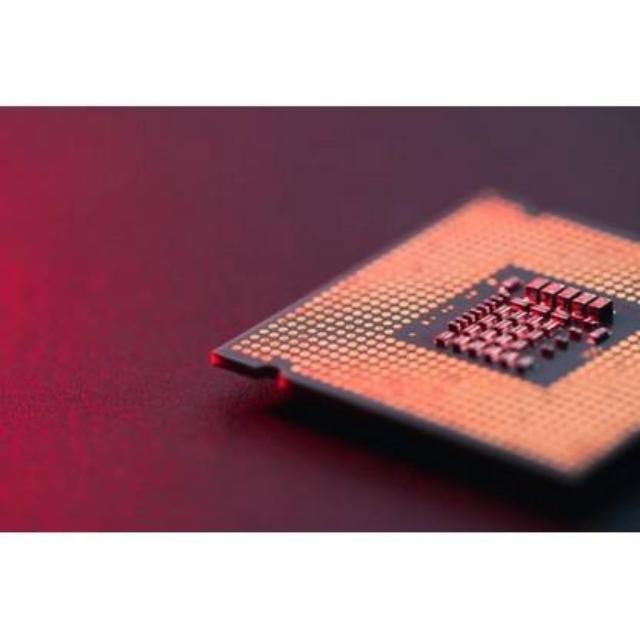CPU: (205, 180, 640, 477)
